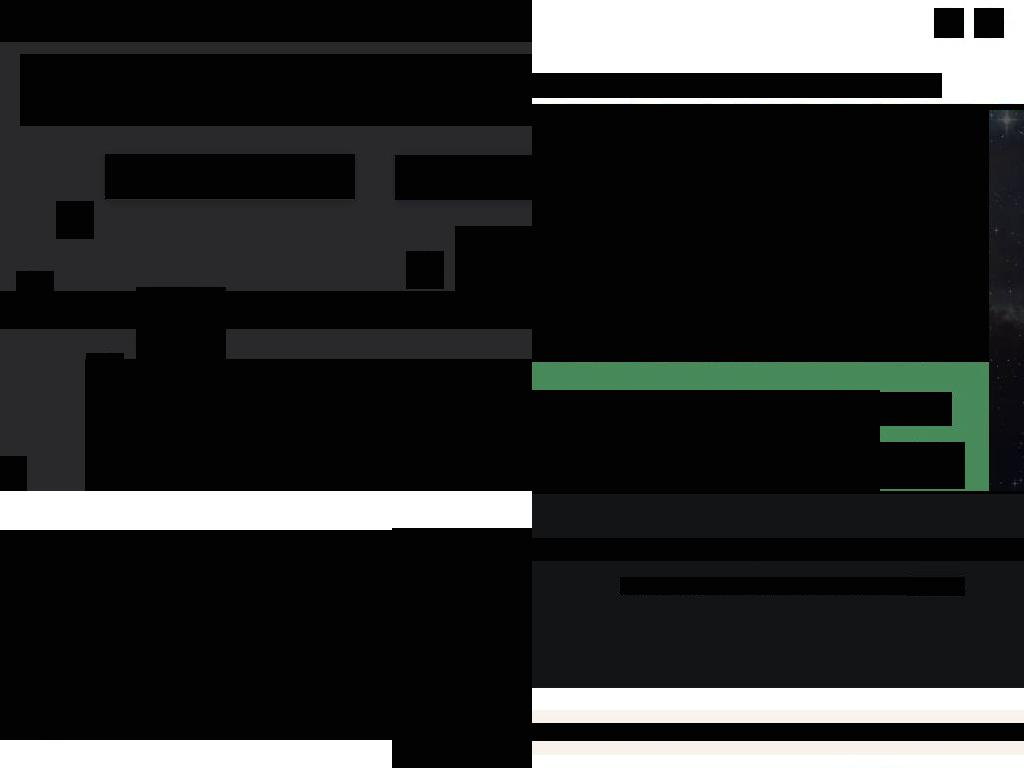button: (620, 577, 965, 595), (395, 155, 532, 200), (866, 392, 952, 426)
heading: (0, 530, 480, 740), (532, 390, 880, 491), (0, 0, 532, 42), (532, 442, 965, 489), (532, 538, 1024, 561), (620, 577, 909, 595), (908, 580, 964, 596)
image: (85, 359, 532, 491), (392, 528, 532, 768), (0, 291, 532, 329), (136, 287, 226, 377), (455, 226, 532, 307), (532, 104, 1024, 110), (406, 251, 444, 289), (86, 353, 124, 391), (56, 201, 94, 239), (16, 271, 54, 309), (476, 361, 514, 399), (934, 8, 964, 38), (974, 8, 1004, 38)
text: (532, 110, 989, 362), (20, 54, 532, 126), (105, 154, 355, 199), (587, 723, 1024, 741), (395, 155, 532, 200), (712, 73, 835, 98), (835, 73, 942, 98), (532, 73, 631, 98), (631, 73, 712, 98), (532, 723, 588, 741)
